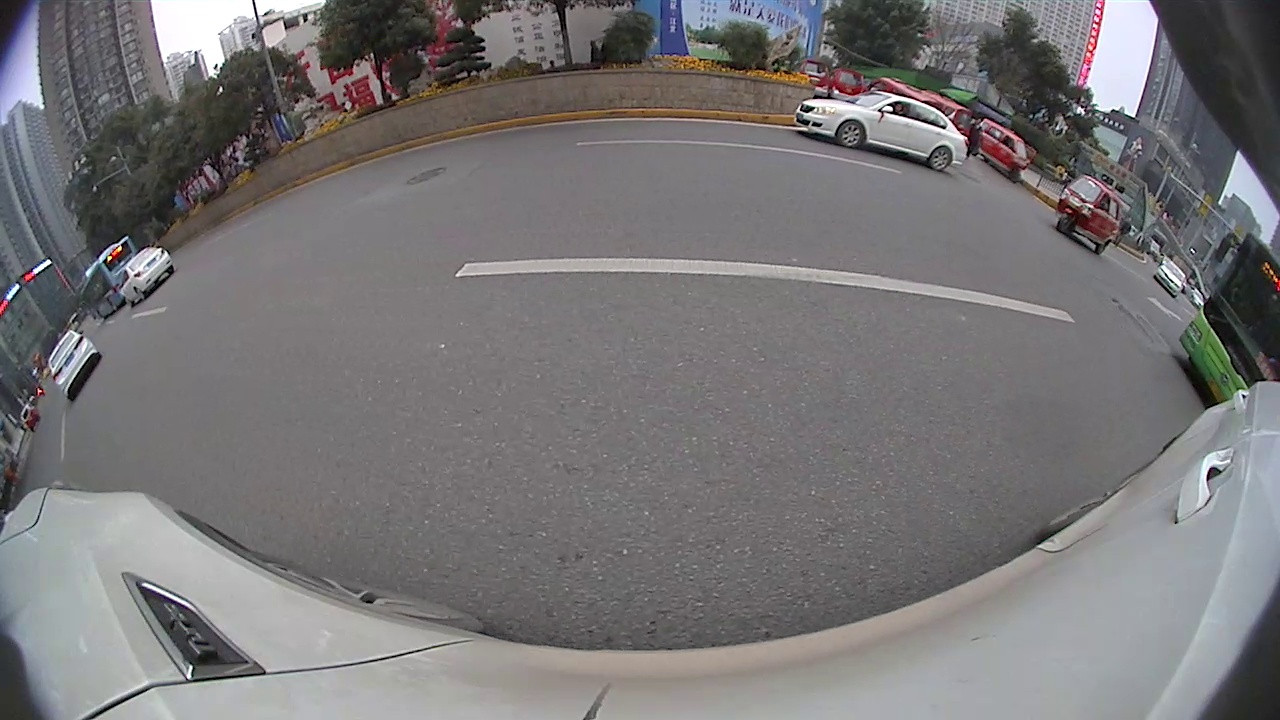bus: (1177, 228, 1277, 404), (77, 235, 142, 325)
car: (793, 89, 970, 173), (46, 329, 102, 403), (114, 245, 177, 307), (1150, 255, 1190, 299)
front: (837, 119, 865, 150), (1054, 213, 1075, 236)
rear: (927, 147, 955, 175), (130, 283, 150, 304), (1093, 237, 1111, 258)
rider: (1054, 173, 1125, 257), (976, 118, 1029, 187), (869, 74, 936, 123), (914, 87, 978, 127), (798, 56, 834, 93), (834, 64, 864, 102)
